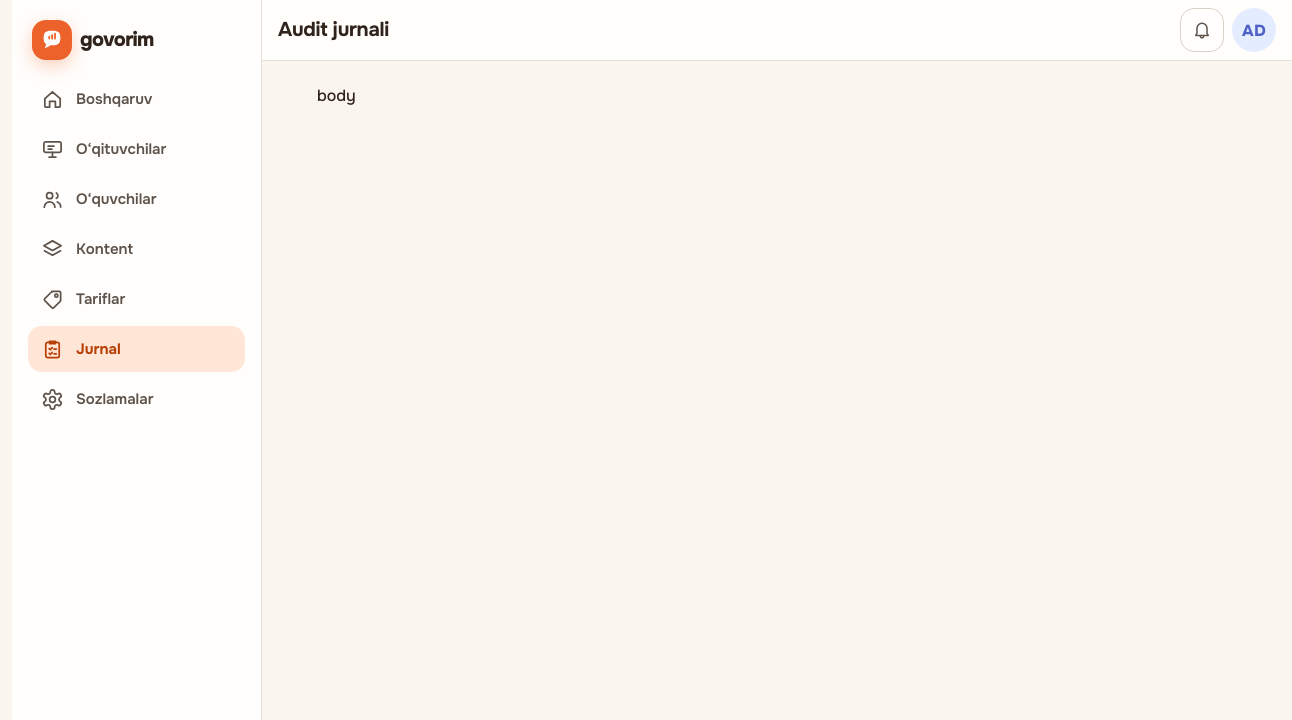
Scenario: RoleLayout › ends the top bar with the bell and the avatar, and the avatar opens the account
Click the button with aria-label "Profil va sozlamalar" at (1254, 30), box [1232,8,1276,52]
(page scrolled)
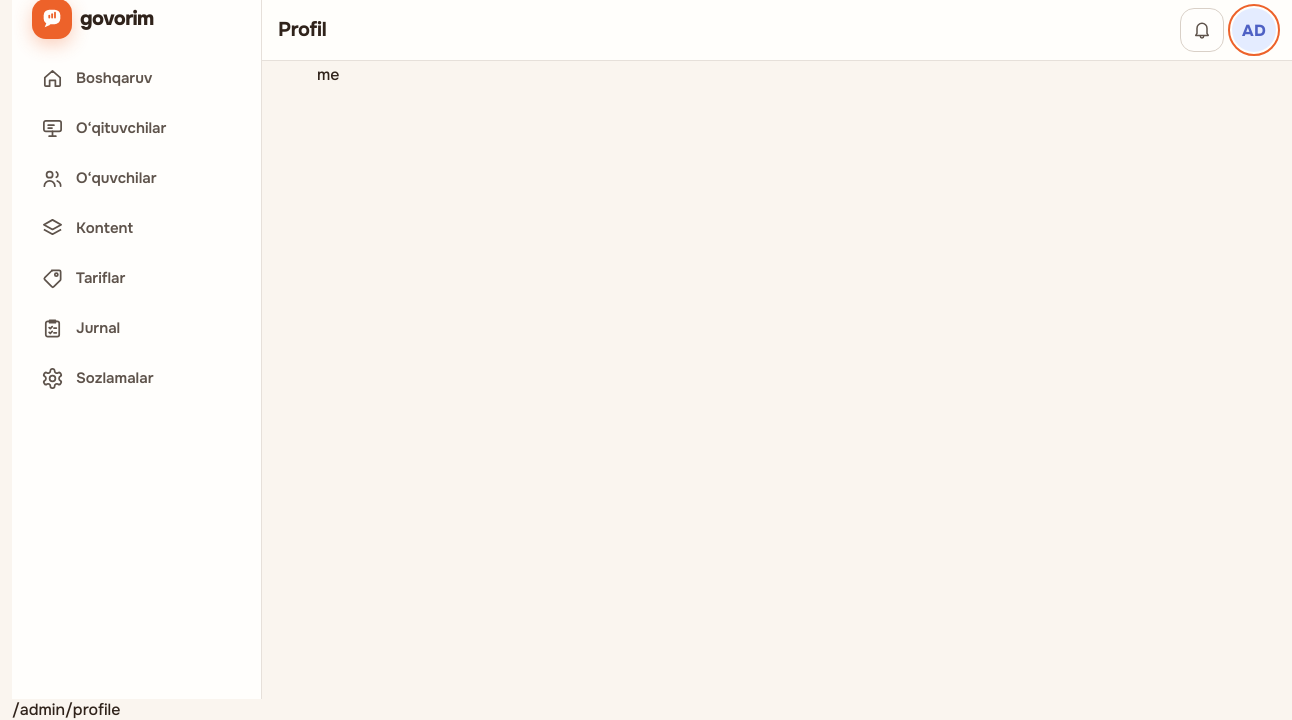
Check: the text with test id "where" reads "/admin/profile", box [12,699,120,719]
